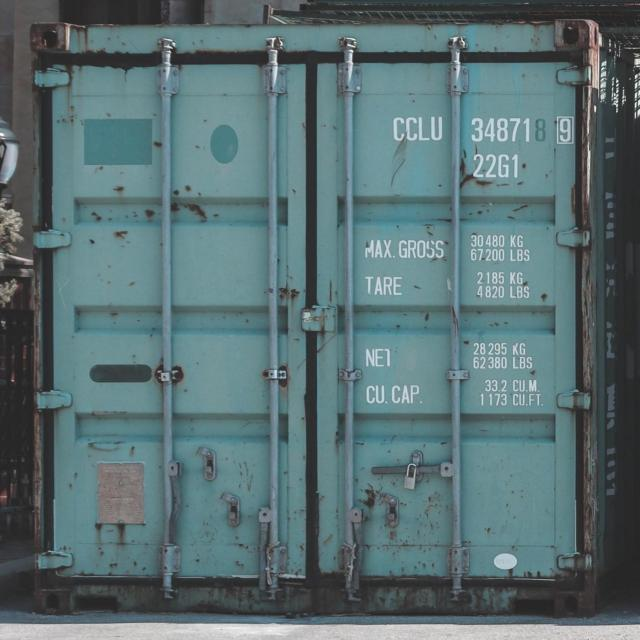ISO: (472, 154, 523, 180)
container_number: (392, 115, 576, 143)
